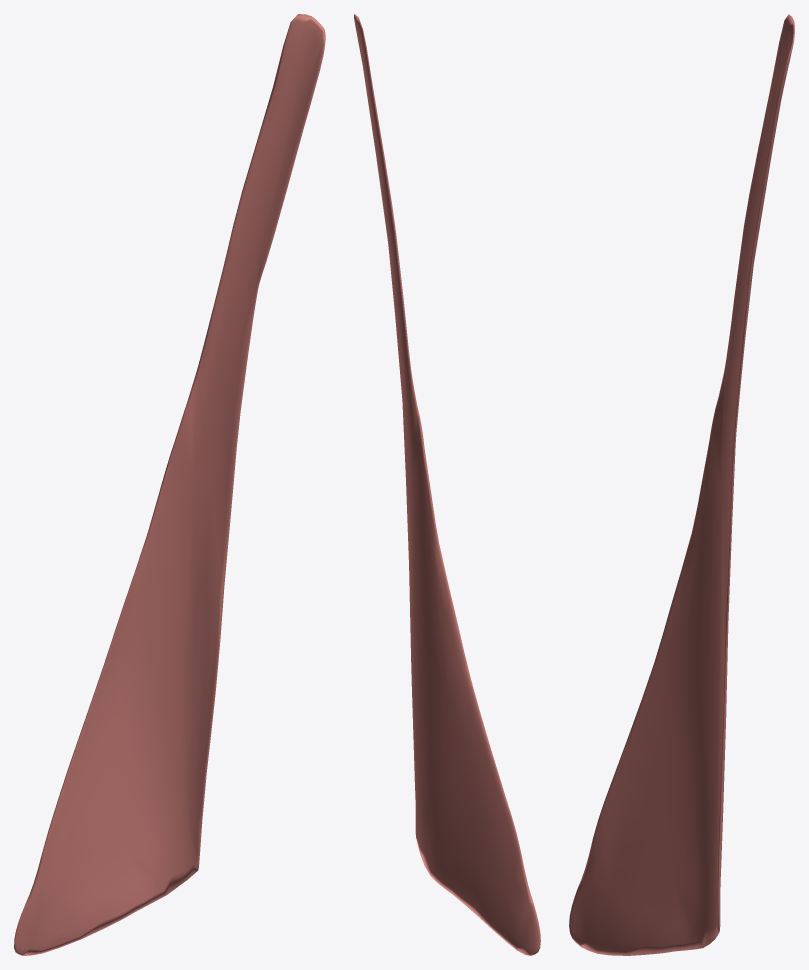
3 renders of one model, left to right at view 1: azimuth 30°, elevation 25°; view 2: azimuth 150°, elevation 25°; view 3: azimuth 330°, elevation 25°, orthographic. The views are drawn at different scales.
Parts seen in each view (by area): view 1: ZA_95b9025cb80d121f; view 2: ZA_95b9025cb80d121f; view 3: ZA_95b9025cb80d121f.
Boxes of the visible parts, x1,y1,x2,y2 form: ZA_95b9025cb80d121f: (14, 14, 325, 955); ZA_95b9025cb80d121f: (354, 14, 540, 955); ZA_95b9025cb80d121f: (569, 14, 794, 955).
Size of the model in its own units: 0.0559 by 0.1924 by 0.0226.
